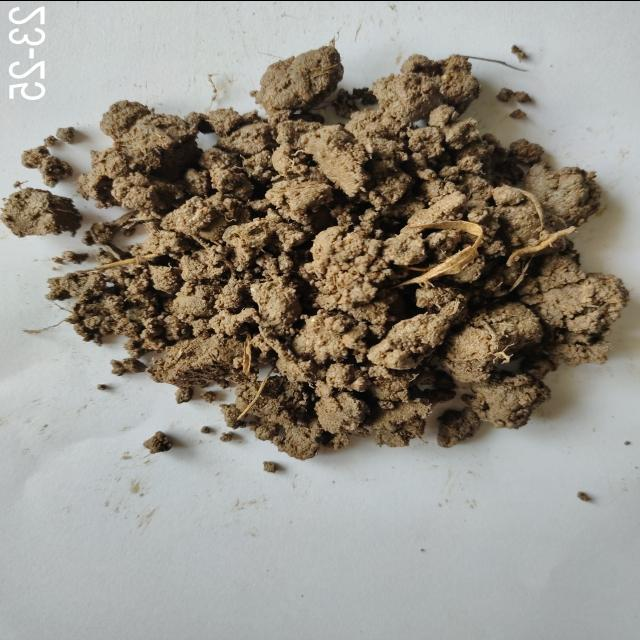soil: (138, 125, 518, 392)
